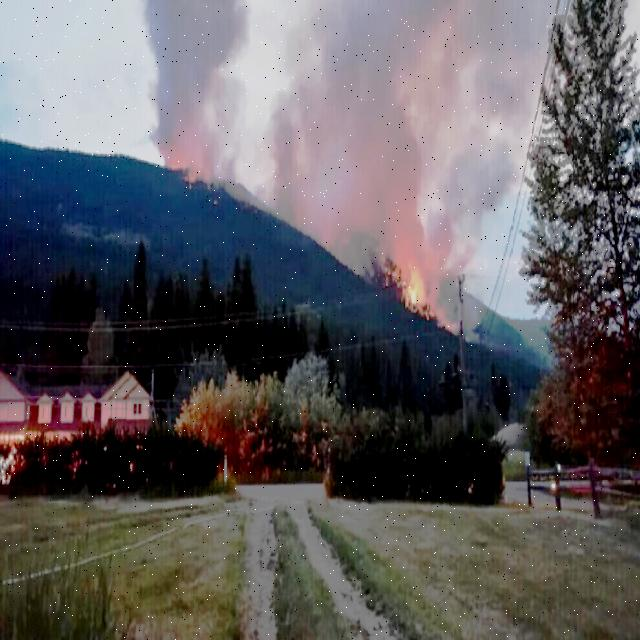api: (298, 197, 398, 287), (437, 209, 489, 331), (401, 257, 425, 311)
asap: (129, 1, 541, 206)
